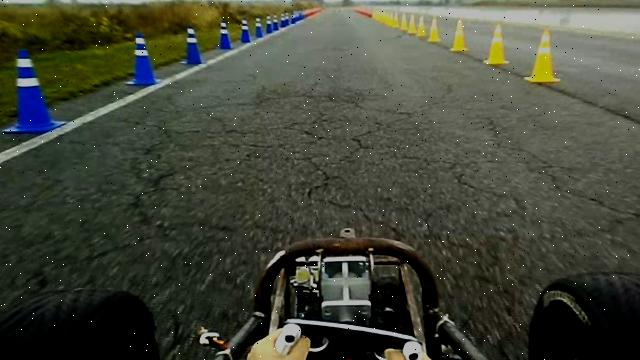blue cone: (1, 48, 66, 134), (124, 31, 161, 86), (180, 26, 205, 66), (217, 20, 233, 50), (240, 19, 251, 43), (254, 17, 263, 38)
yellow cone: (524, 29, 560, 84), (484, 23, 509, 65), (450, 18, 467, 52), (428, 17, 440, 42), (407, 14, 417, 35), (417, 16, 425, 38)
